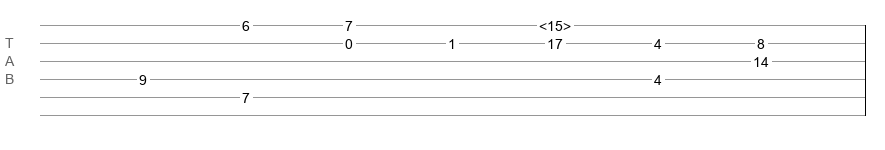0: (345, 36, 353, 46)
1: (448, 36, 456, 46)
14: (753, 54, 769, 64)
17: (547, 36, 563, 46)
4: (654, 72, 662, 82), (654, 36, 662, 46)
6: (242, 18, 250, 28)
7: (242, 90, 250, 100), (345, 18, 353, 28)
8: (757, 36, 765, 46)
9: (139, 72, 147, 82)
harmonic: (539, 18, 571, 28)
